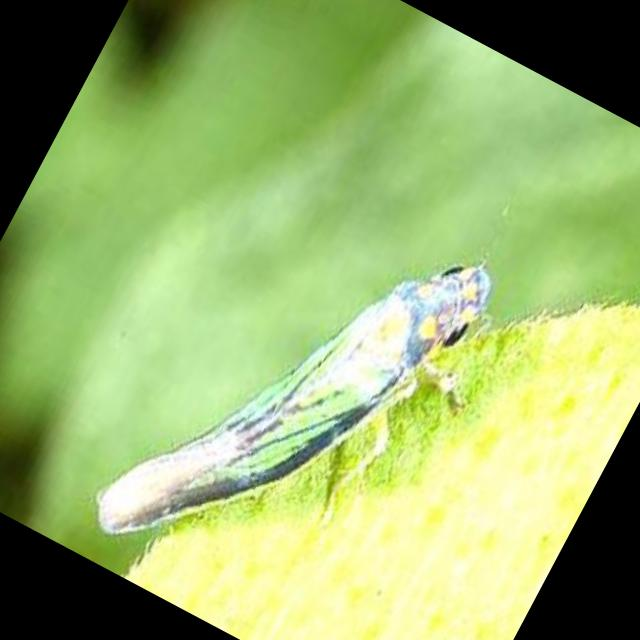green-leafhopper: (96, 265, 492, 538)
